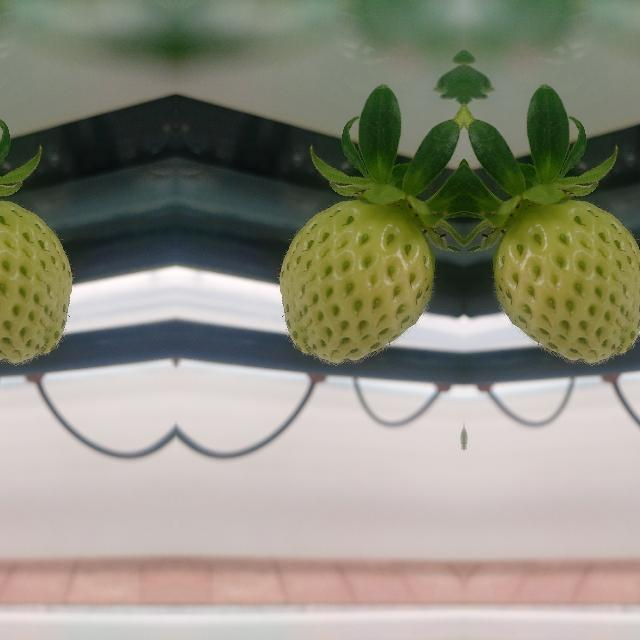Health_25: (278, 200, 432, 362), (494, 199, 640, 362), (0, 199, 72, 362)
